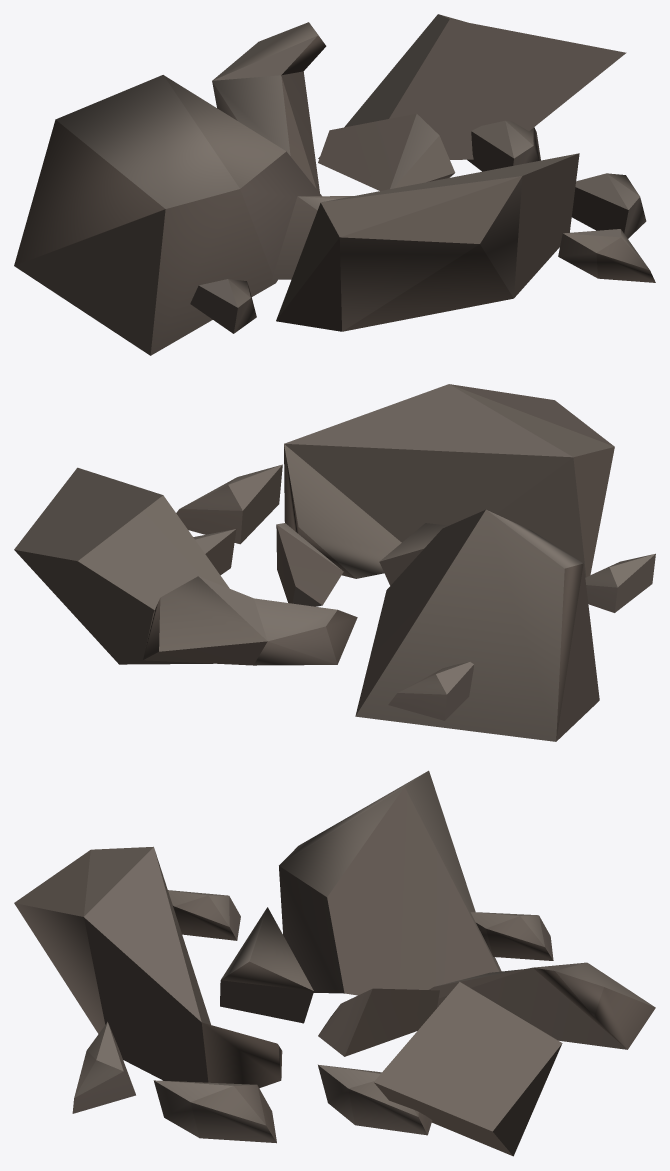
Rendered from Stone.fbx.
3 views of the same model, one above another, from view 1: azimuth 30°, elevation 25°; view 2: azimuth 150°, elevation 25°; view 3: azimuth 270°, elevation 25° (orthographic). The views are drawn at different scales.
Parts seen in each view (by area): view 1: ShiTou; view 2: ShiTou; view 3: ShiTou.
Boxes of the visible parts, <box> form: ShiTou: <box>14,14,655,355</box>; ShiTou: <box>14,384,655,741</box>; ShiTou: <box>14,770,655,1156</box>.
Bounding box in the file's own units: 0.7693 × 0.292 × 0.7517.
